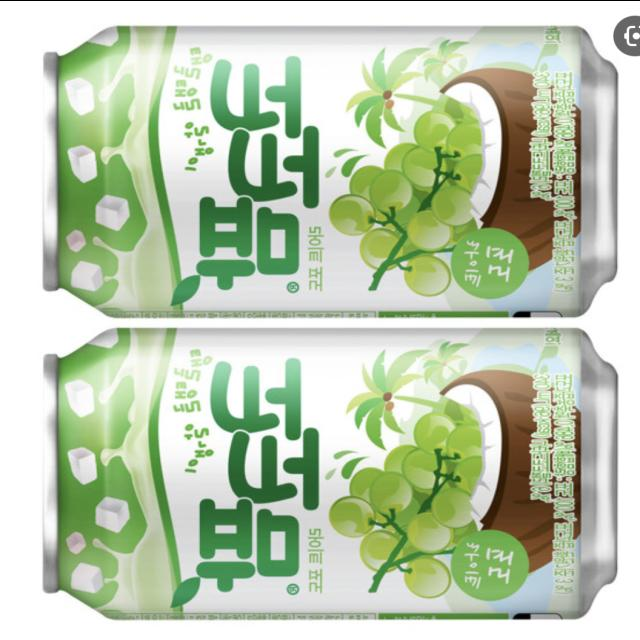can: (23, 314, 617, 636), (24, 6, 618, 326)
